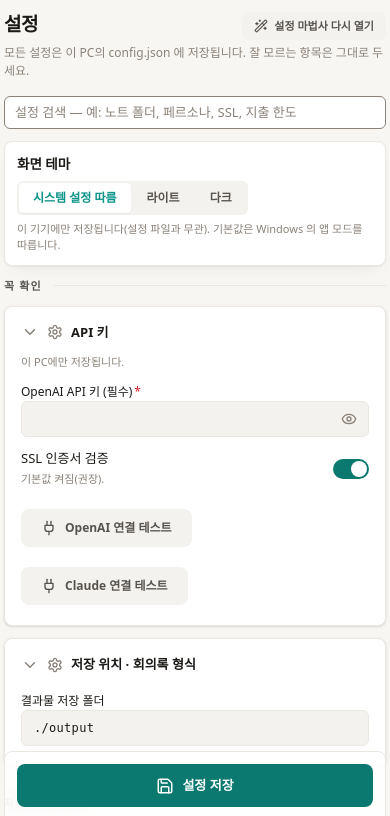
Test: 설정 검색 — 어떤 설정이든 도달한다 › 결과가 없으면 그렇게 말하고 지우는 방법을 준다
This screenshot has width=390, height=816.
Expected: the button "API 키" is shown, [5,306,385,358]
In the field labelled "설정 검색": (195, 113) [4,96,386,129], type "존재하지않는설정"
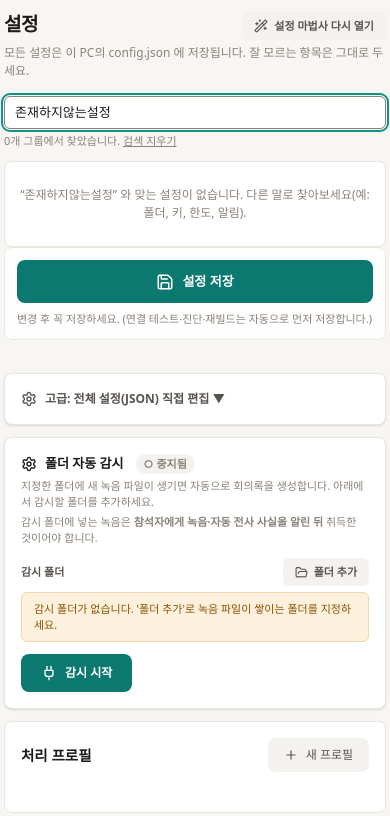
Result: the text "“존재하지않는설정” 와 맞는 설정이 없습니다. 다른 말로 찾아보세요(예: 폴더, 키, 한도, 알림)." is shown at [4,161,386,247]
